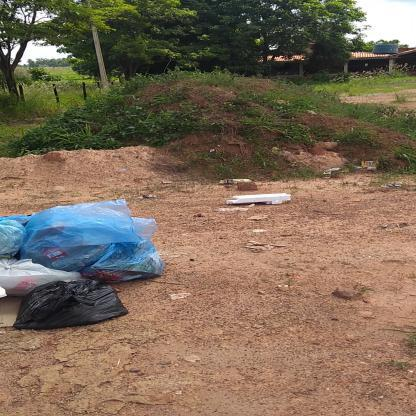lixo: (0, 196, 150, 338)
